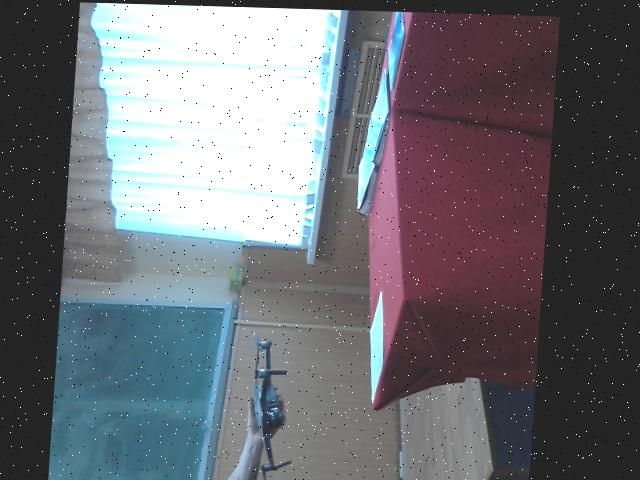drone: (232, 315, 309, 480)
